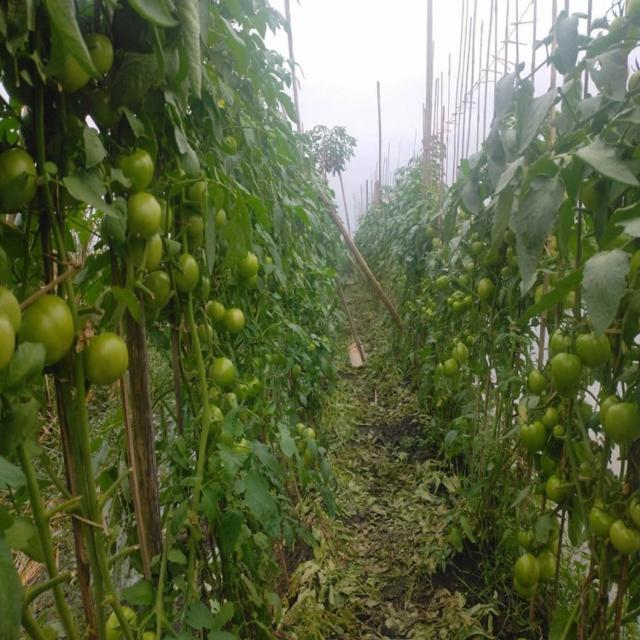tomato: (28, 289, 77, 371), (83, 329, 138, 392), (5, 144, 45, 220), (122, 189, 164, 235), (115, 147, 158, 189), (577, 324, 614, 370), (607, 400, 640, 449), (551, 348, 586, 389), (82, 33, 113, 78), (614, 524, 640, 574), (107, 599, 142, 636), (1, 313, 24, 368), (209, 351, 243, 388), (173, 253, 201, 296), (1, 281, 23, 335), (134, 235, 164, 274), (517, 549, 540, 593), (587, 504, 615, 540), (522, 363, 552, 393), (221, 310, 248, 335), (239, 256, 264, 283), (186, 209, 210, 237), (543, 546, 562, 578), (525, 417, 547, 444), (551, 326, 573, 353), (540, 403, 562, 429), (476, 278, 499, 301), (203, 296, 223, 322), (207, 397, 224, 427), (450, 289, 473, 311), (452, 340, 472, 363), (301, 427, 322, 448), (216, 208, 234, 232), (190, 177, 207, 202), (628, 495, 640, 530), (443, 353, 463, 373), (547, 471, 566, 491), (294, 416, 310, 438), (452, 299, 468, 315), (522, 523, 542, 531)
